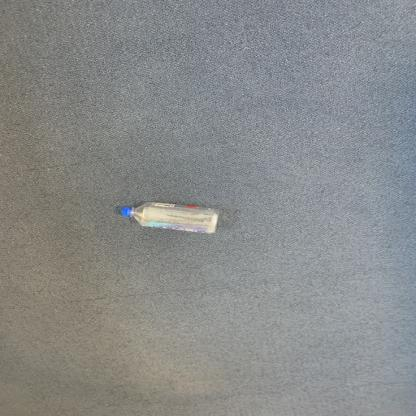trash: (115, 198, 225, 237)
